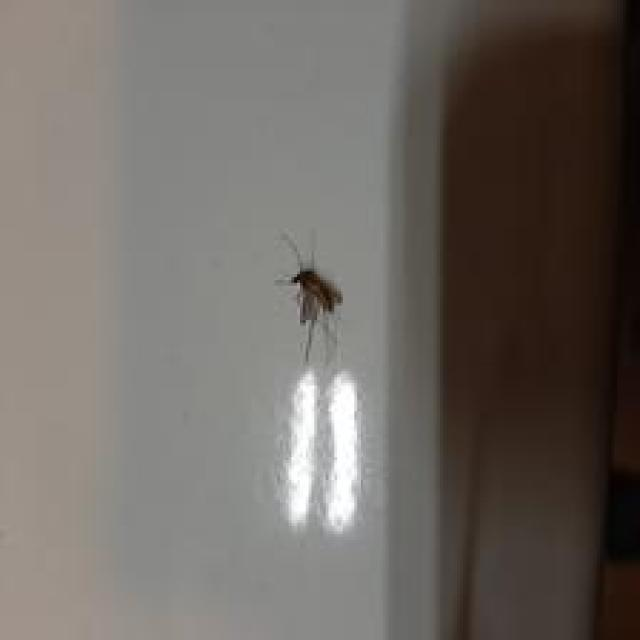Culex: (276, 228, 344, 366)
